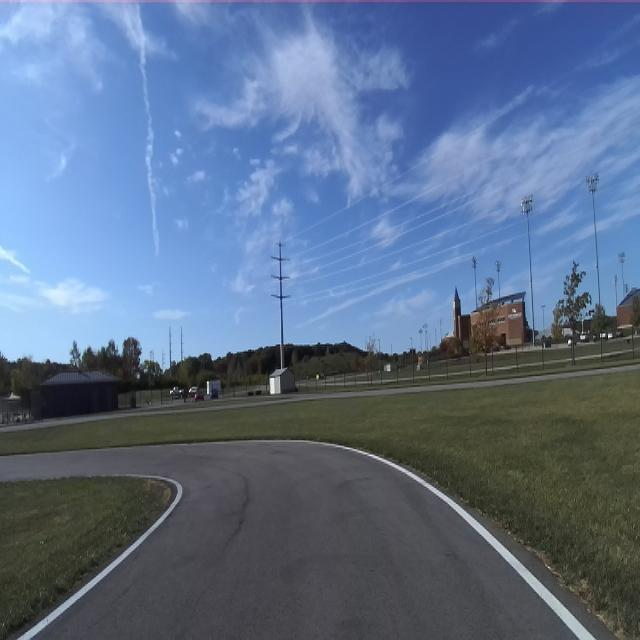white-line: (0, 438, 596, 639), (19, 474, 183, 639), (20, 551, 130, 639)
